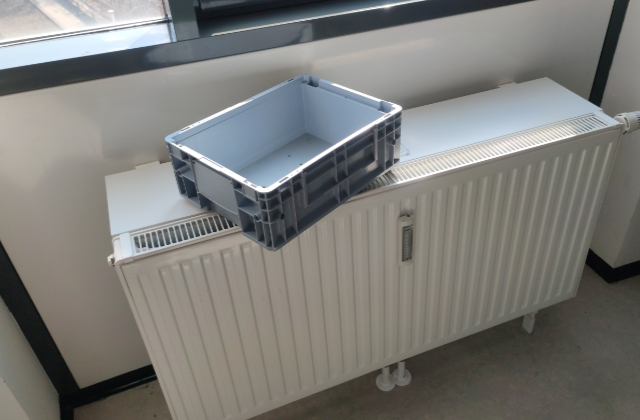Box: (162, 72, 402, 250)
